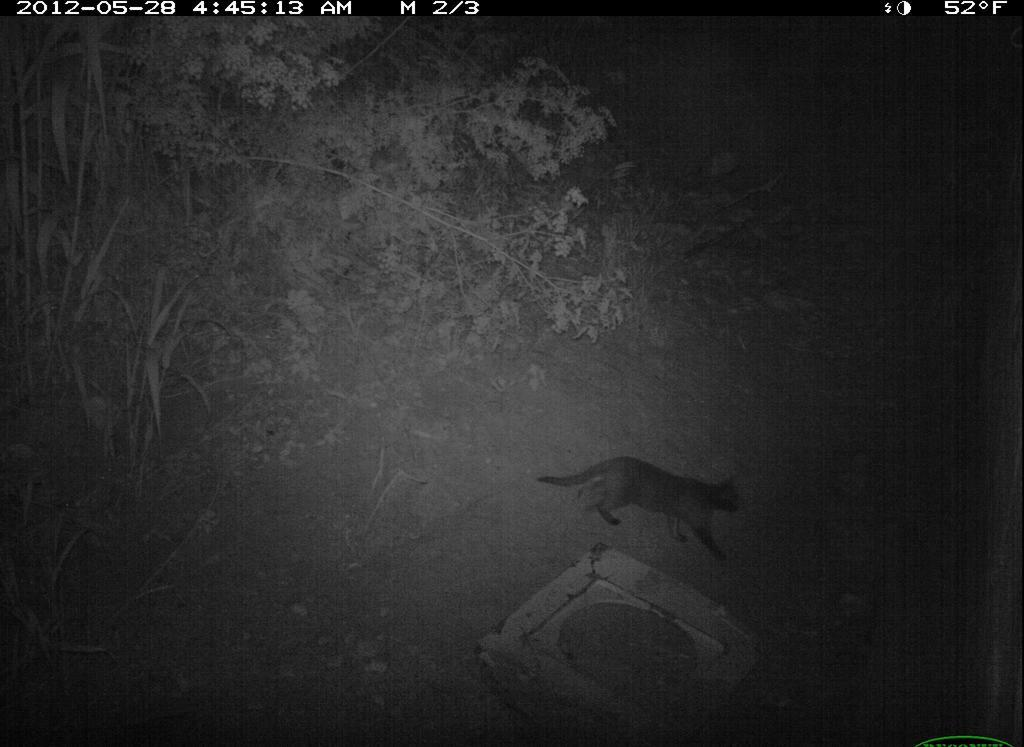cat: (527, 445, 757, 573)
